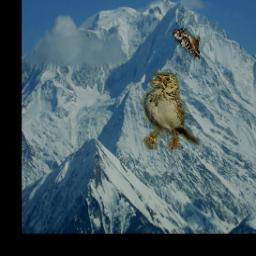Sparrow: (143, 71, 202, 150)
Woodpecker: (173, 29, 201, 61)
